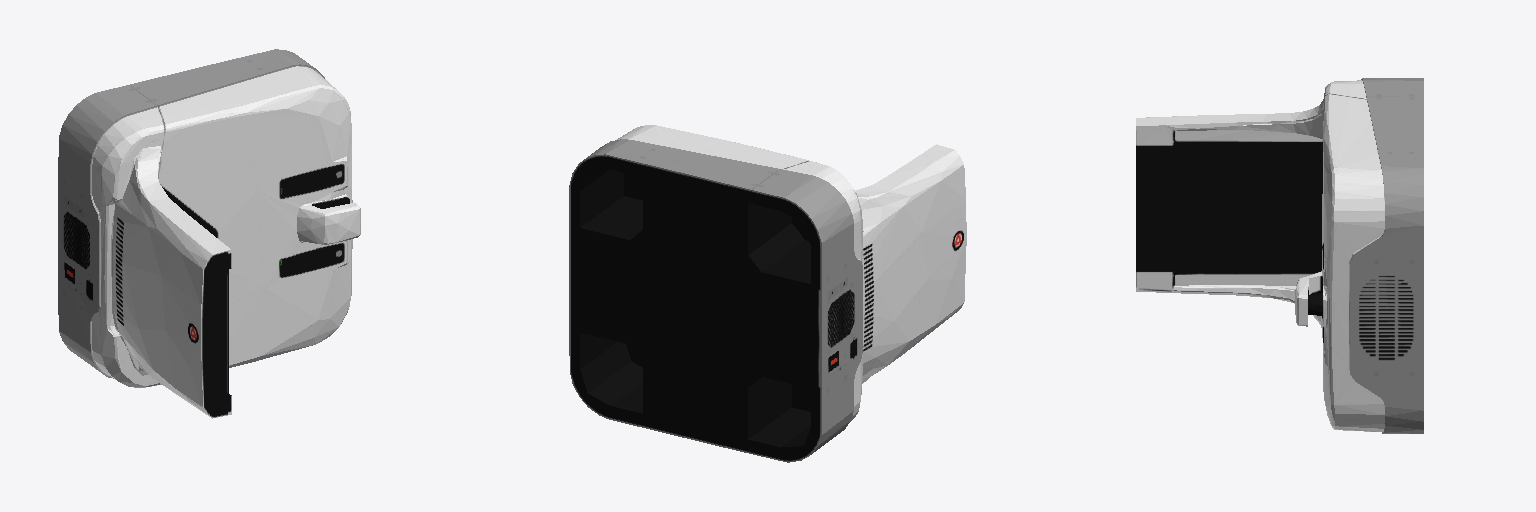
The picture shows the model from 3 angles: view 1: azimuth 30°, elevation 25°; view 2: azimuth 150°, elevation 25°; view 3: azimuth 270°, elevation 25°; orthographic projection.
Visible parts, largest first — view 1: /ambf/env/pr2/base_link_/ambf/env/pr2/base_link_base2_M1KShape.0; view 2: /ambf/env/pr2/base_link_/ambf/env/pr2/base_link_base2_M1KShape.0; view 3: /ambf/env/pr2/base_link_/ambf/env/pr2/base_link_base2_M1KShape.0.
Part boxes in pixels (x1,y1,x2,y2): /ambf/env/pr2/base_link_/ambf/env/pr2/base_link_base2_M1KShape.0: (58, 49, 360, 418); /ambf/env/pr2/base_link_/ambf/env/pr2/base_link_base2_M1KShape.0: (569, 125, 966, 462); /ambf/env/pr2/base_link_/ambf/env/pr2/base_link_base2_M1KShape.0: (1136, 78, 1423, 433).
Size of the model in its own units: 0.6694 by 0.6668 by 0.6562.
1 materials, 1 textured.